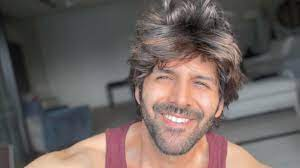b.y: (152, 105, 202, 157)
